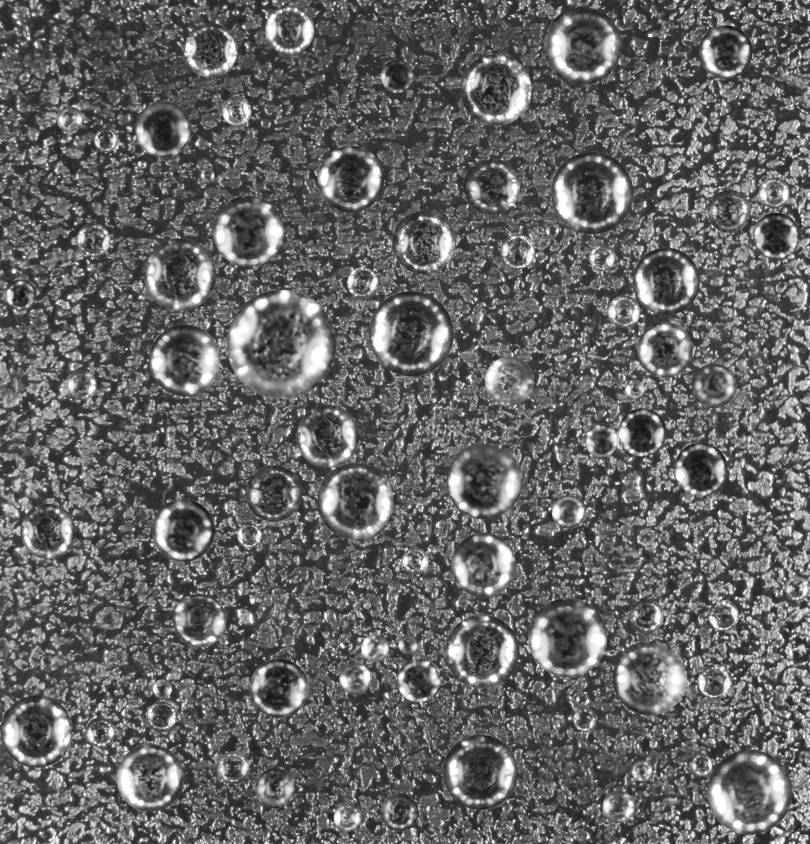Bubble: (227, 289, 335, 398), (368, 291, 453, 376), (707, 749, 792, 834), (551, 151, 633, 234), (528, 598, 607, 677), (544, 6, 621, 84), (446, 442, 522, 519), (317, 463, 393, 539), (442, 734, 517, 809), (612, 641, 687, 715), (445, 614, 519, 688), (143, 238, 216, 310), (0, 695, 72, 767), (149, 324, 220, 396), (212, 195, 283, 266), (460, 54, 531, 125), (632, 247, 700, 315), (116, 744, 183, 811), (317, 146, 384, 212), (451, 532, 515, 597), (392, 210, 455, 274), (296, 405, 359, 467), (152, 499, 214, 561), (249, 658, 308, 717), (463, 158, 520, 215), (245, 465, 301, 521), (135, 101, 191, 157), (637, 322, 692, 377), (20, 503, 75, 558), (183, 23, 237, 77), (173, 594, 226, 647), (674, 442, 727, 495), (699, 25, 752, 78), (265, 5, 314, 54), (485, 356, 534, 405), (618, 408, 666, 456), (753, 212, 799, 259), (691, 363, 736, 408), (396, 659, 439, 702), (708, 190, 750, 232), (255, 768, 295, 808), (380, 793, 418, 831), (697, 664, 732, 699), (500, 234, 535, 269), (629, 598, 663, 633), (584, 423, 618, 457), (76, 223, 110, 256), (552, 495, 585, 528), (607, 295, 640, 328), (380, 59, 413, 92), (602, 790, 634, 823), (347, 267, 379, 299), (339, 662, 371, 694), (217, 751, 249, 783), (708, 600, 739, 631), (5, 279, 36, 310), (759, 177, 789, 208), (146, 701, 176, 732), (85, 717, 115, 747), (221, 96, 251, 125), (67, 370, 96, 400), (361, 634, 388, 662), (333, 804, 361, 831), (402, 547, 428, 574), (56, 106, 82, 132), (589, 245, 615, 271), (784, 576, 809, 601), (237, 523, 261, 548), (94, 128, 117, 151), (573, 708, 596, 730), (690, 754, 712, 776), (631, 760, 652, 781), (624, 379, 644, 399), (398, 634, 417, 654), (153, 679, 171, 698), (40, 654, 54, 668), (200, 168, 214, 182), (576, 693, 589, 707), (545, 224, 558, 237), (87, 702, 98, 713)
